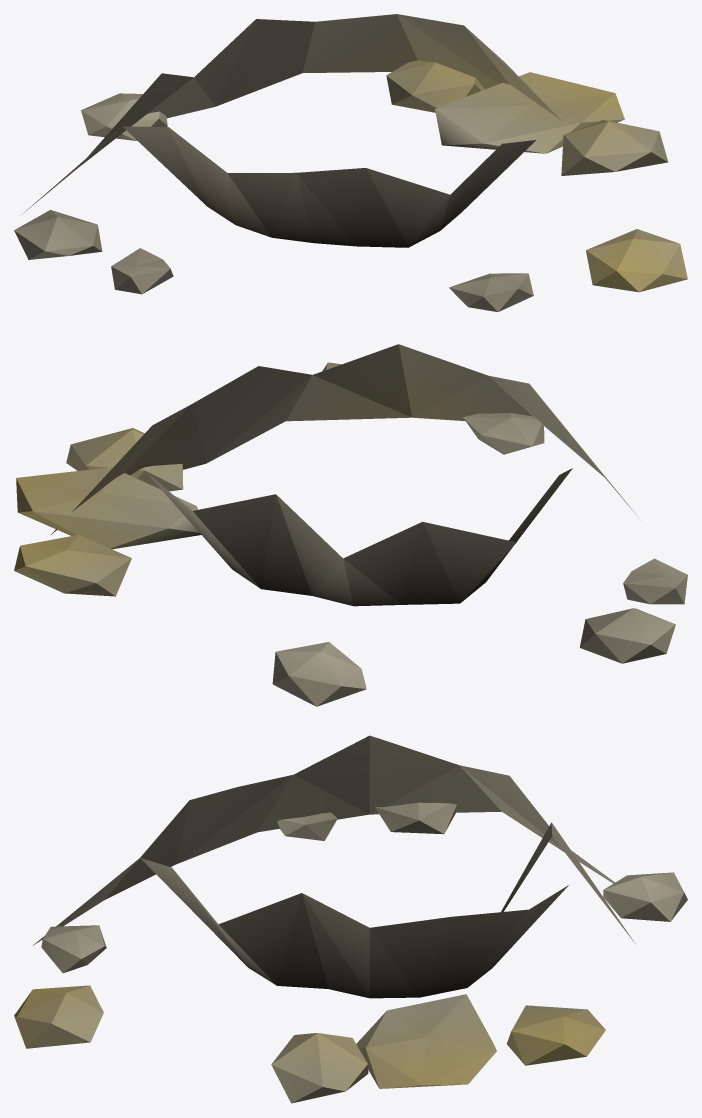
Rendered from steam_vent.glb.
3 views of the same model, one above another, from view 1: azimuth 30°, elevation 25°; view 2: azimuth 150°, elevation 25°; view 3: azimuth 270°, elevation 25° (orthographic). The views are drawn at different scales.
Parts seen in each view (by area): view 1: steam_vent; view 2: steam_vent; view 3: steam_vent.
Boxes of the visible parts, x1,y1,x2,y2 form: steam_vent: (14,14,687,311); steam_vent: (14,344,687,706); steam_vent: (14,735,687,1103).
Size of the model in its own units: 1.86 by 0.3725 by 1.73.
